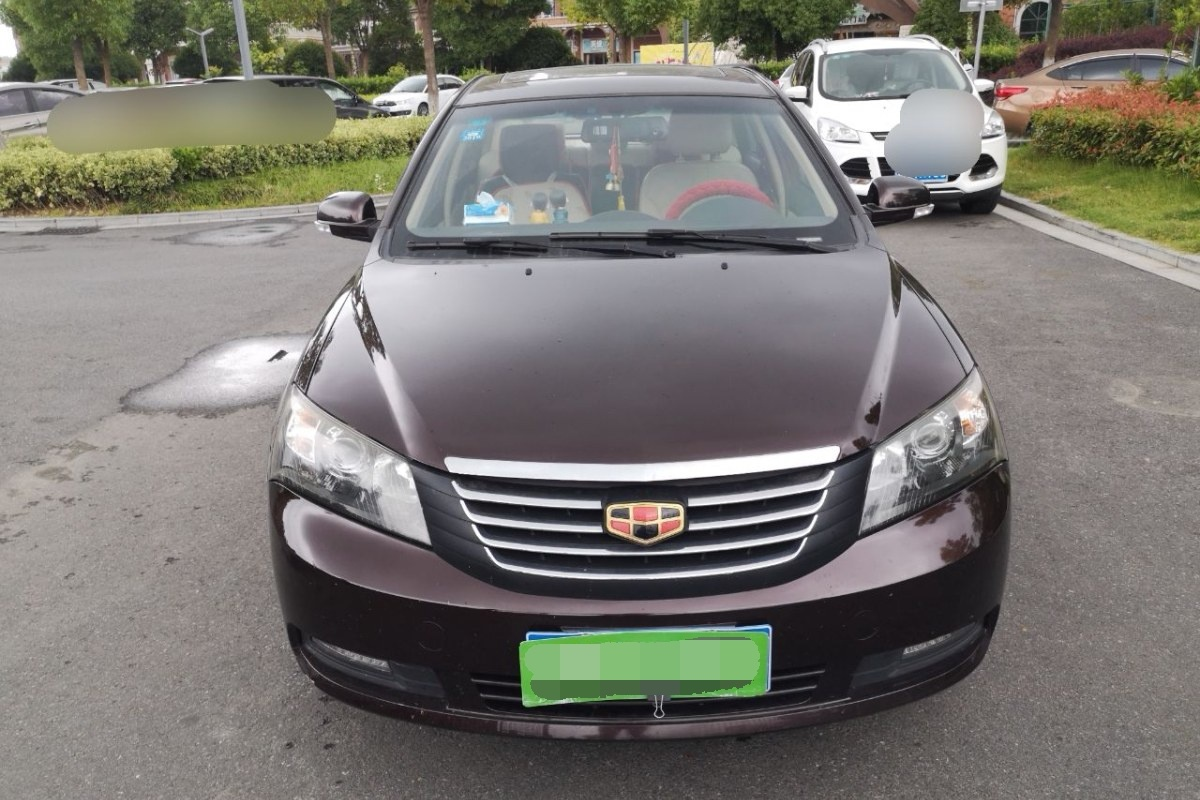SUV: (790, 27, 1024, 224)
family sedan: (274, 40, 985, 730)
